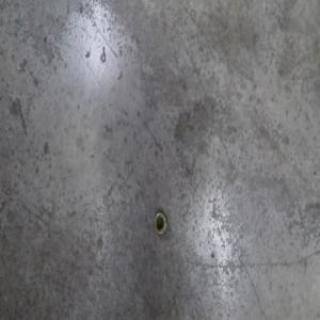Nuttrack_idkeyframe: (152, 209, 166, 237)
